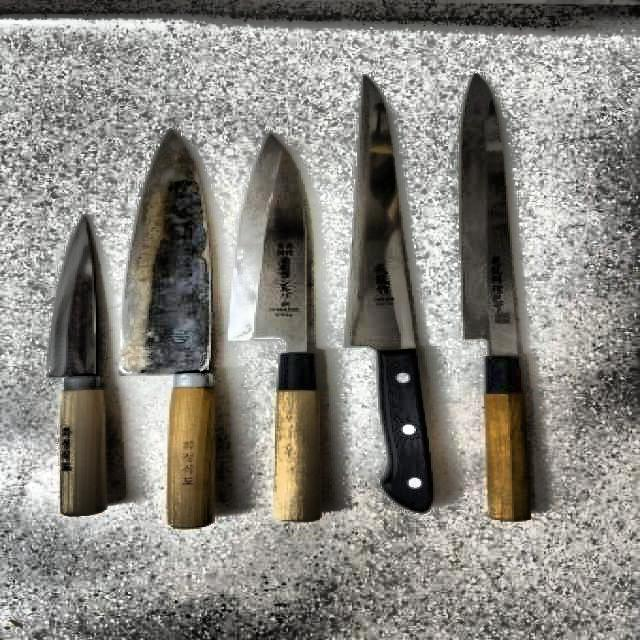knife: (346, 70, 446, 522), (229, 134, 337, 526), (119, 130, 223, 534), (452, 67, 535, 526), (46, 212, 111, 525)
